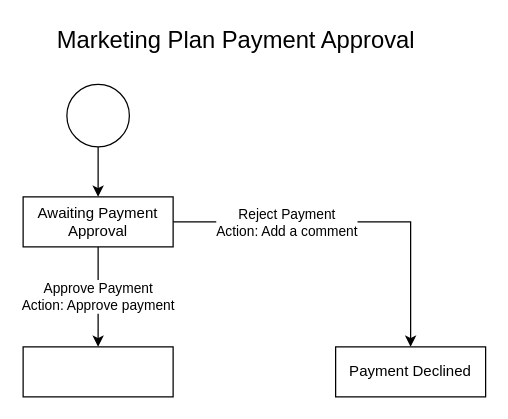
The diagram is 508 pixels wide and 419 high, and some of its shapes have lost their labels. Here are the shapes that lost their labels. From the top down, the box of each, then its label:
(66, 83, 129, 147): start
(22, 346, 173, 397): Payment Approved
